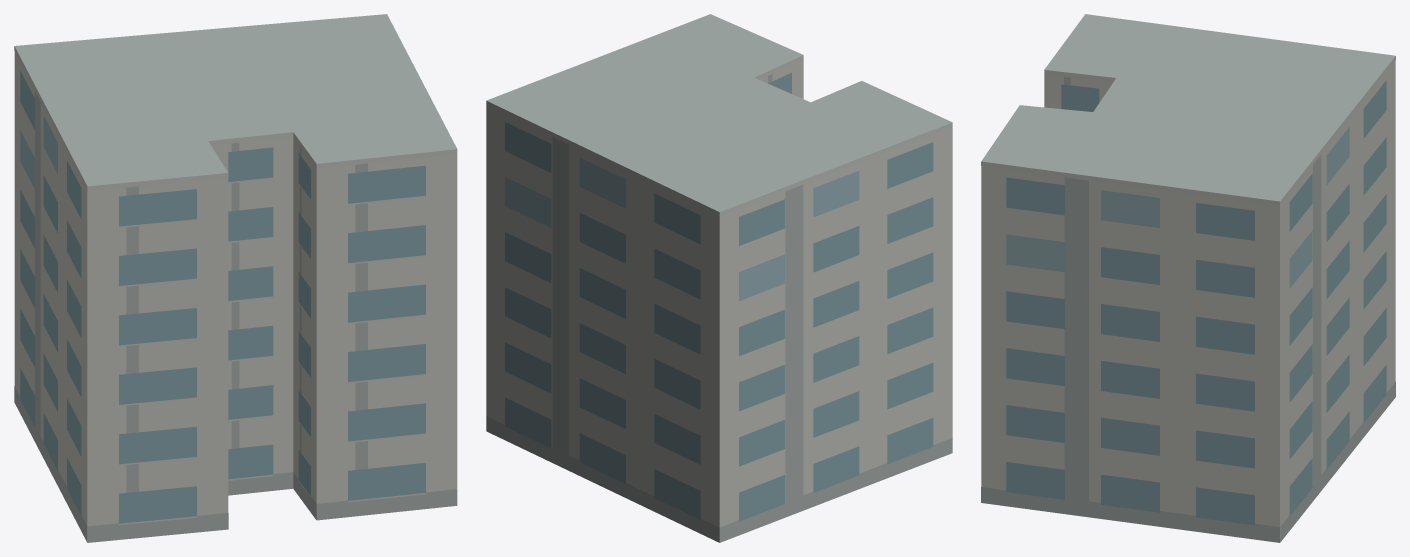
File: survey-upis-32996935.glb
The picture shows the model from 3 angles, left to right: view 1: azimuth 30°, elevation 25°; view 2: azimuth 150°, elevation 25°; view 3: azimuth 270°, elevation 25°; orthographic projection. The views are drawn at different scales.
Visible parts, largest first — view 1: survey-upis-32996935.tmp; view 2: survey-upis-32996935.tmp; view 3: survey-upis-32996935.tmp.
Part boxes in pixels (x1=…): survey-upis-32996935.tmp: x1=14, y1=14, x2=457, y2=542; survey-upis-32996935.tmp: x1=486, y1=14, x2=952, y2=542; survey-upis-32996935.tmp: x1=981, y1=14, x2=1395, y2=542.
Size of the model in its own units: 21.03 by 17.85 by 19.66.
